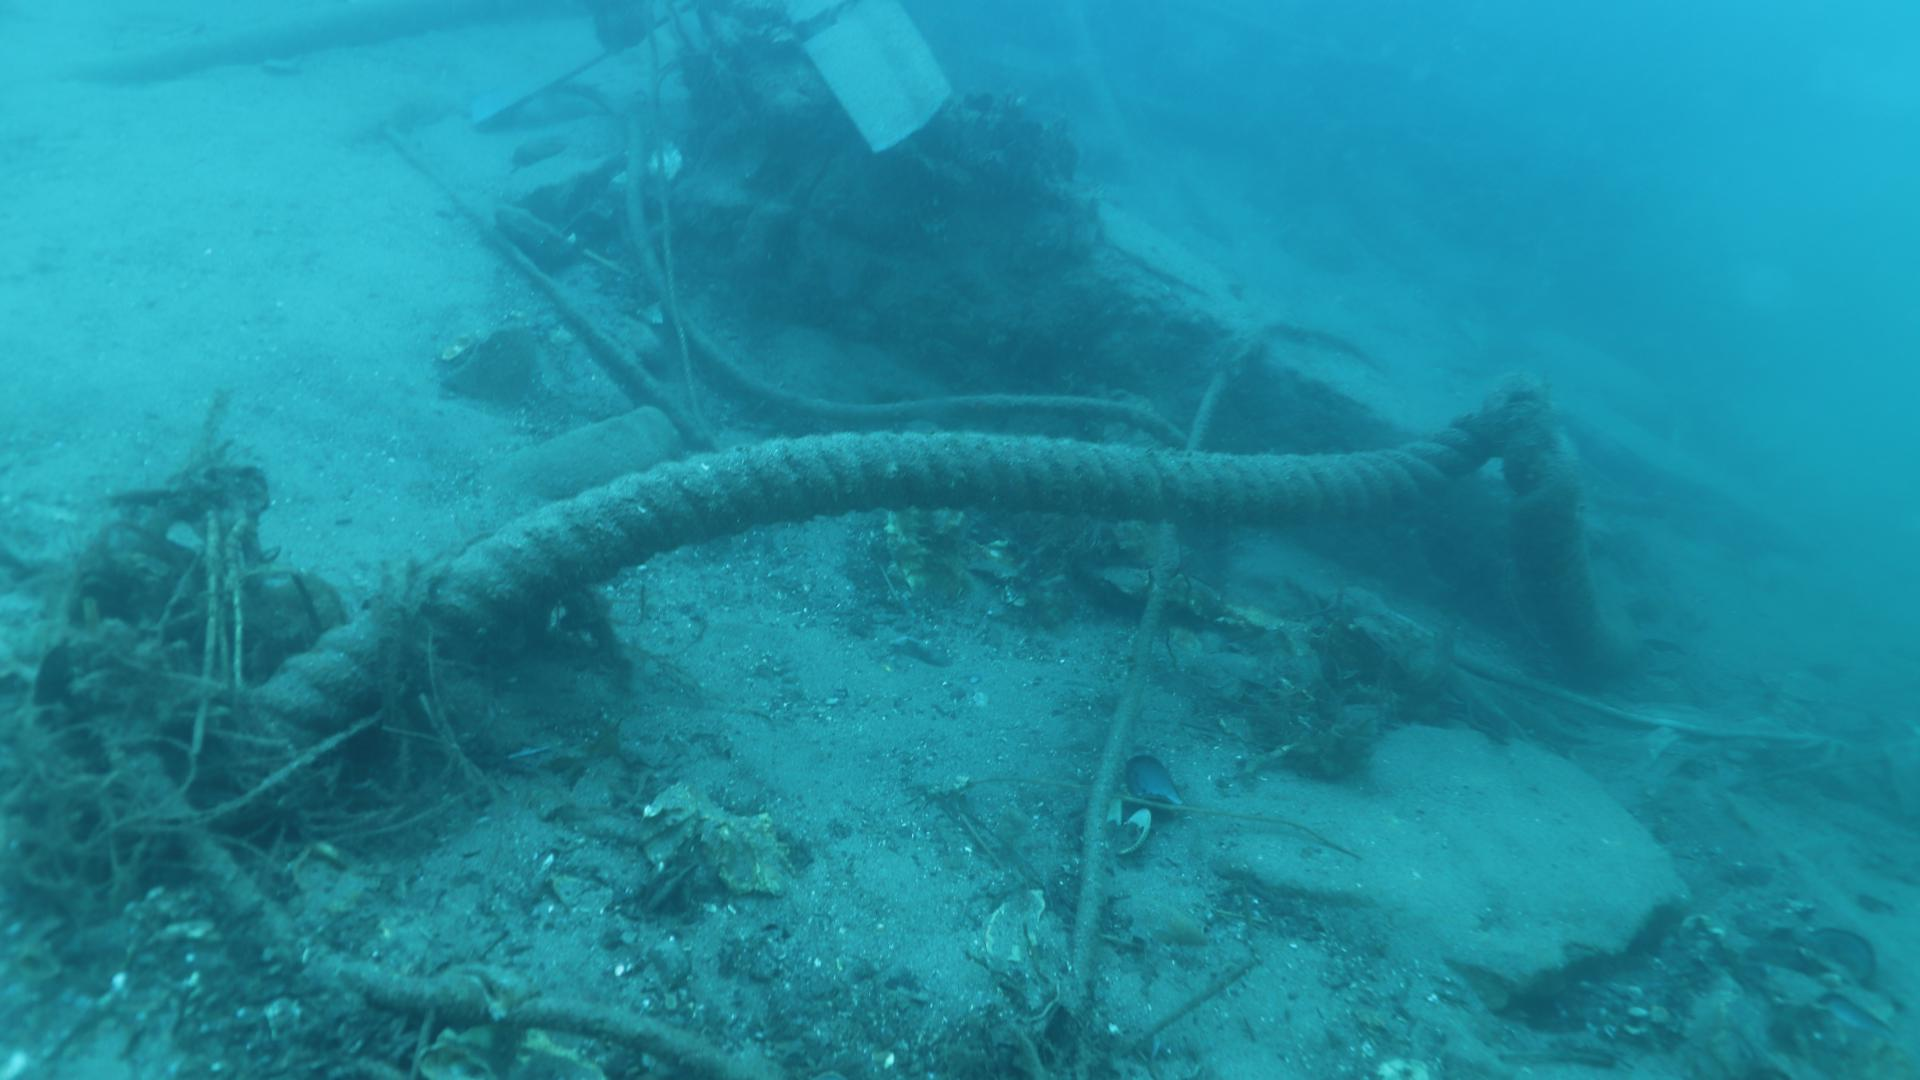rope: (253, 378, 1594, 754)
